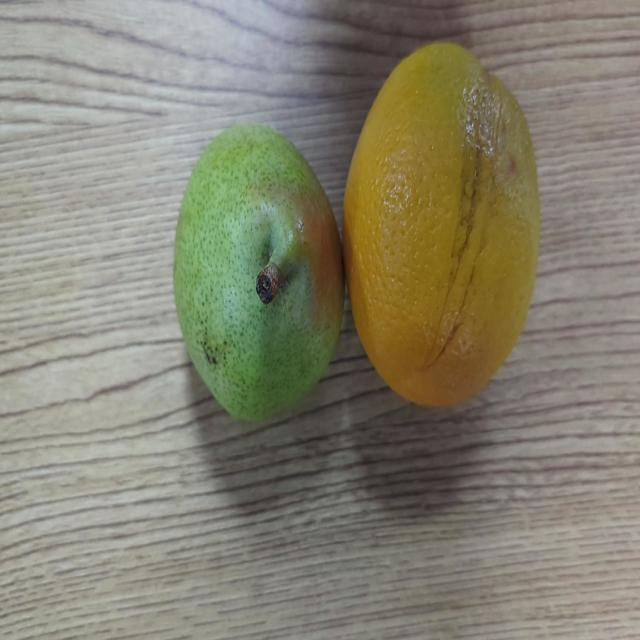Jeruk: (342, 31, 544, 414)
Pir: (169, 118, 345, 430)
